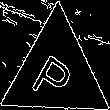P_NE: (30, 41, 82, 103)
